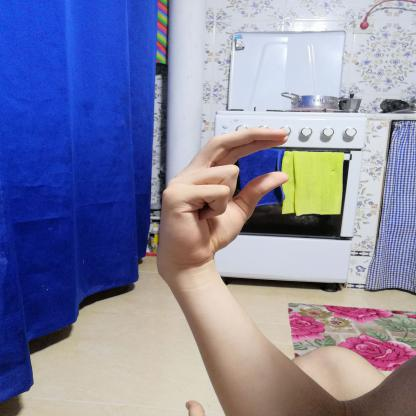DHELL: (149, 120, 302, 276)
